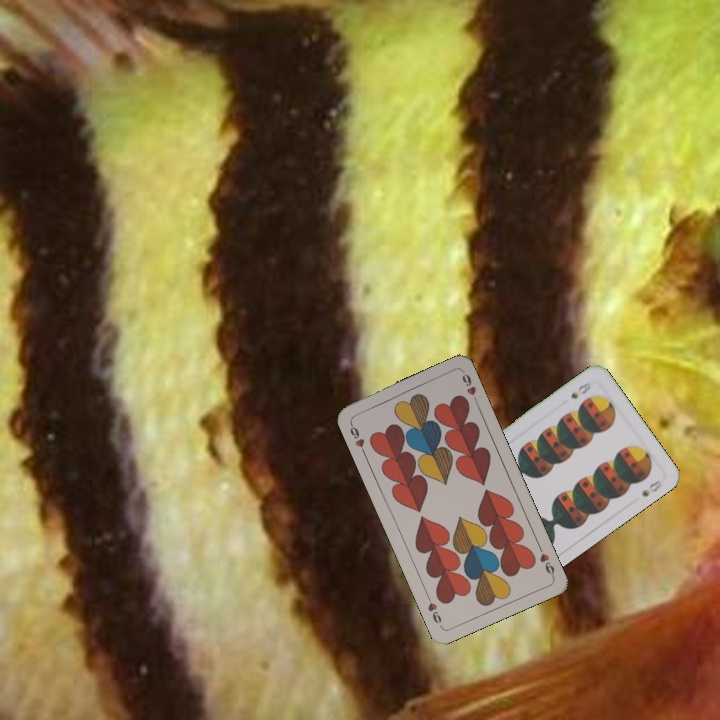H9: (534, 541, 557, 580), (346, 418, 368, 457)
S8: (567, 378, 593, 401)
